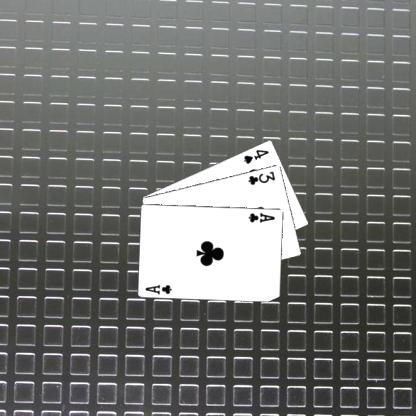3C: (245, 168, 276, 186)
4S: (242, 146, 271, 164)
AC: (246, 209, 276, 224), (142, 282, 173, 296)
